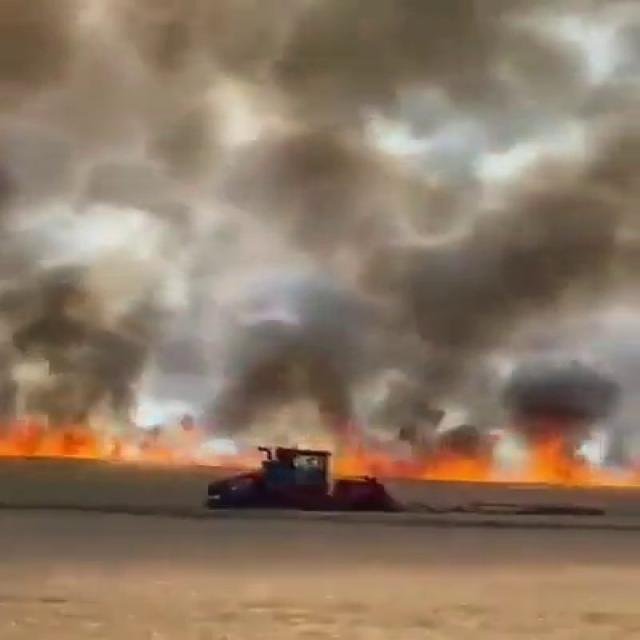Fire: (336, 425, 635, 486), (0, 416, 130, 460)
Smoke: (205, 105, 573, 359), (0, 258, 181, 421), (272, 18, 387, 81)
